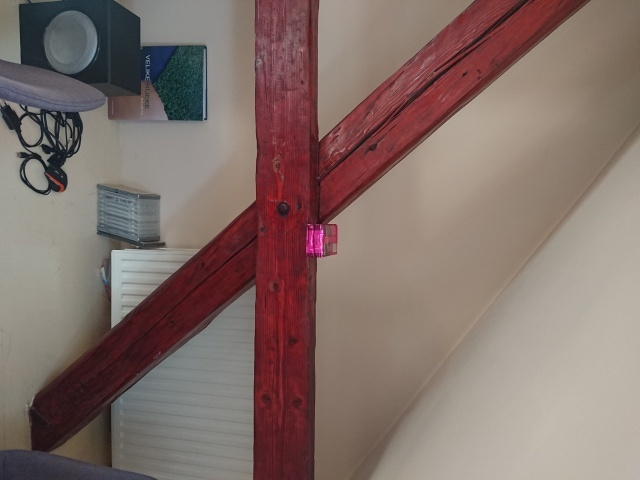Barcaffe Classic Original 225g: (304, 221, 340, 260)
